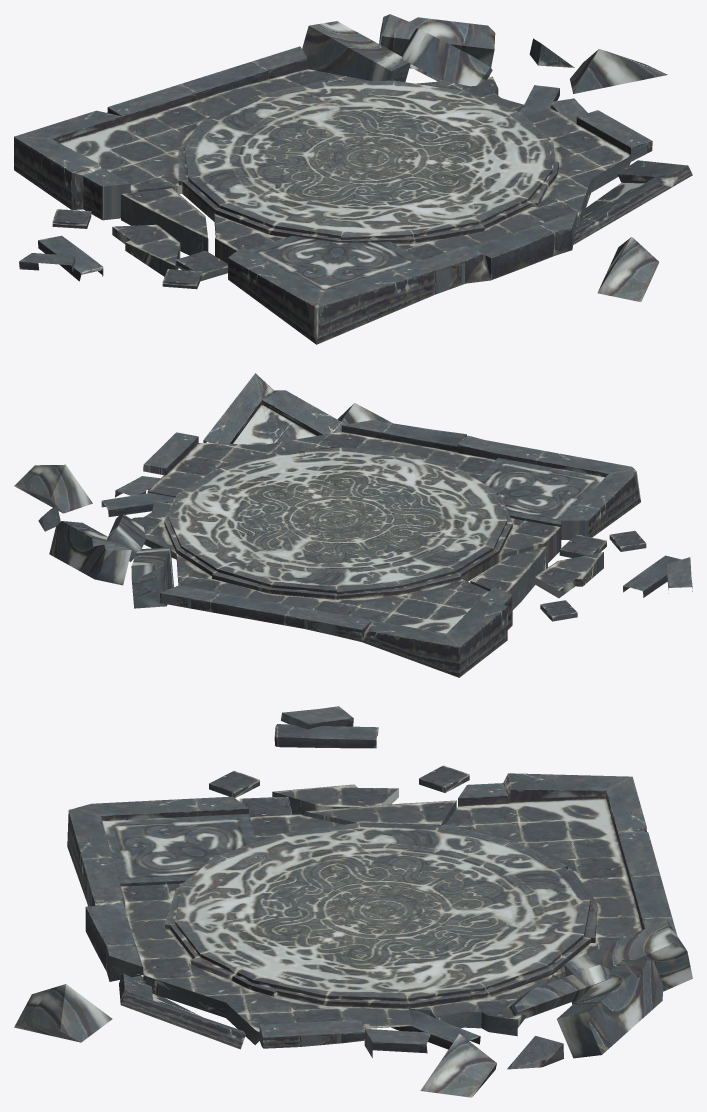
The model's file is 2005_Item_taizi_1.FBX.
The picture shows the model from 3 angles, top to bottom: view 1: azimuth 30°, elevation 25°; view 2: azimuth 150°, elevation 25°; view 3: azimuth 270°, elevation 25°; orthographic projection. The views are drawn at different scales.
Parts seen in each view (by area): view 1: 2005_Item_taizi_1; view 2: 2005_Item_taizi_1; view 3: 2005_Item_taizi_1.
Boxes of the visible parts, x1=… form: 2005_Item_taizi_1: x1=14, y1=14, x2=692, y2=344; 2005_Item_taizi_1: x1=14, y1=373, x2=692, y2=677; 2005_Item_taizi_1: x1=14, y1=706, x2=692, y2=1097.
Bounding box in the file's own units: 6736 × 5130 × 724.
